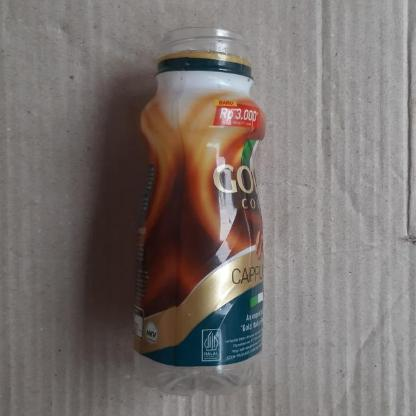Plastic Bottle: (126, 0, 292, 382)
